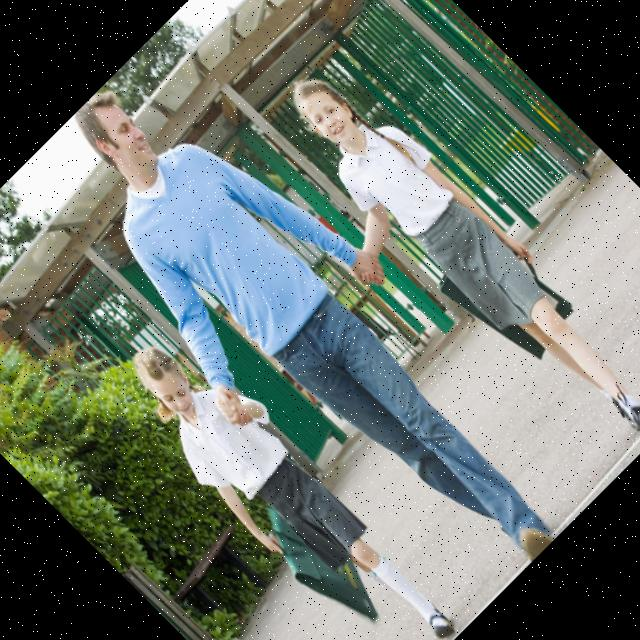Person: (0, 35, 605, 640), (230, 49, 640, 504), (101, 312, 472, 640)
